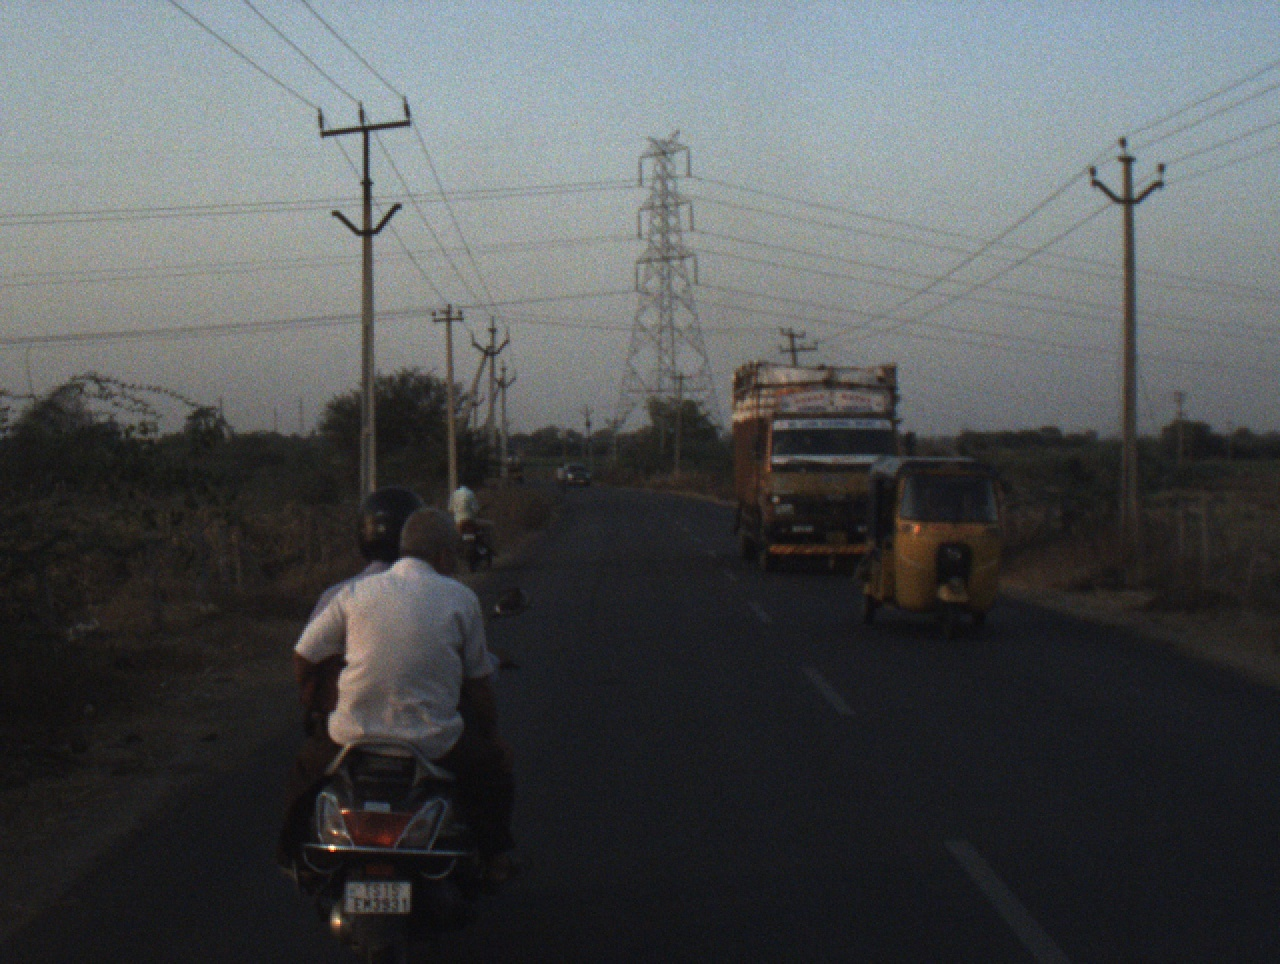autorickshaw: (849, 448, 1015, 650), (509, 452, 530, 487)
bicycle: (557, 479, 570, 497)
car: (561, 458, 594, 490)
motorcycle: (286, 586, 538, 944), (458, 518, 494, 577)
rider: (281, 504, 525, 903), (307, 481, 425, 620), (447, 476, 502, 559), (556, 460, 566, 486)
truck: (720, 354, 905, 583)
